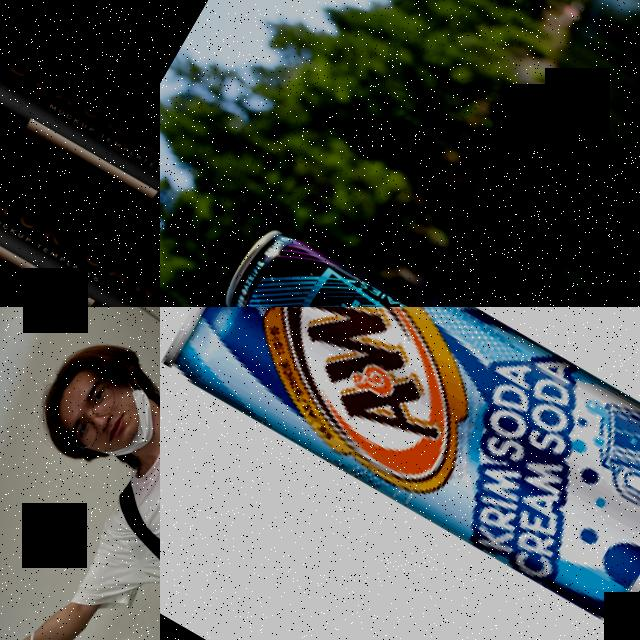can: (160, 307, 640, 638), (0, 0, 160, 284), (209, 214, 634, 307), (0, 97, 160, 307), (0, 204, 160, 307)
